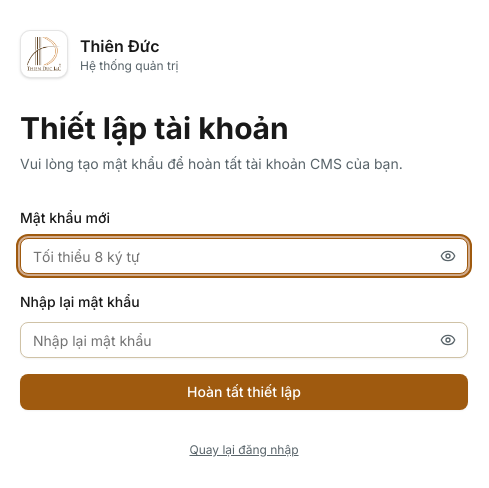
Test: AccountSetupPage › mật khẩu xác nhận không khớp → chặn submit, không gọi accept
The width and height of the screenshot is (489, 488).
Type "MatKhau123" into the password field labelled "Mật khẩu mới" at (244, 256), box [20,238,468,274]
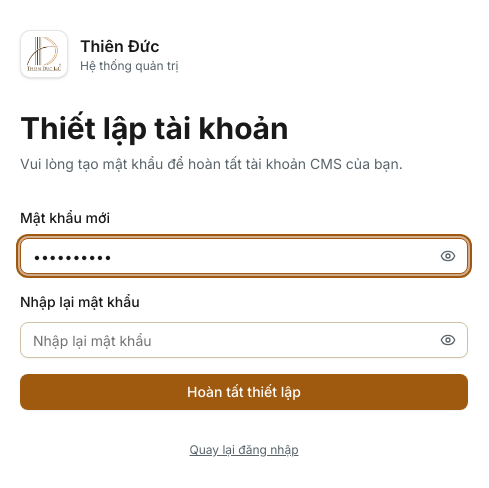
Type "KhacHoanToan1" into the password field labelled "Nhập lại mật khẩu" at (244, 340), box [20,322,468,358]
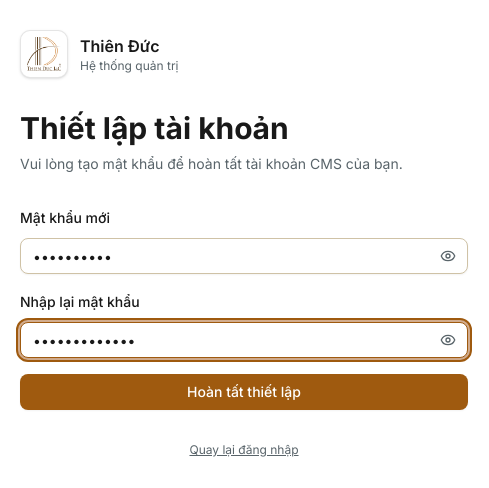
Click the button "Hoàn tất thiết lập" at (244, 392), box [20,374,468,410]
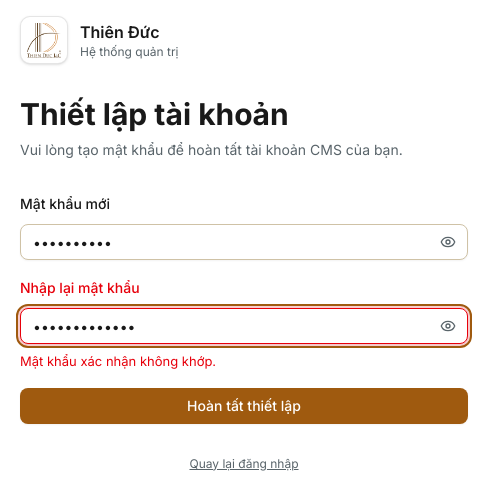
Expected: the text "Mật khẩu xác nhận không khớp." is shown, [20,353,216,369]
